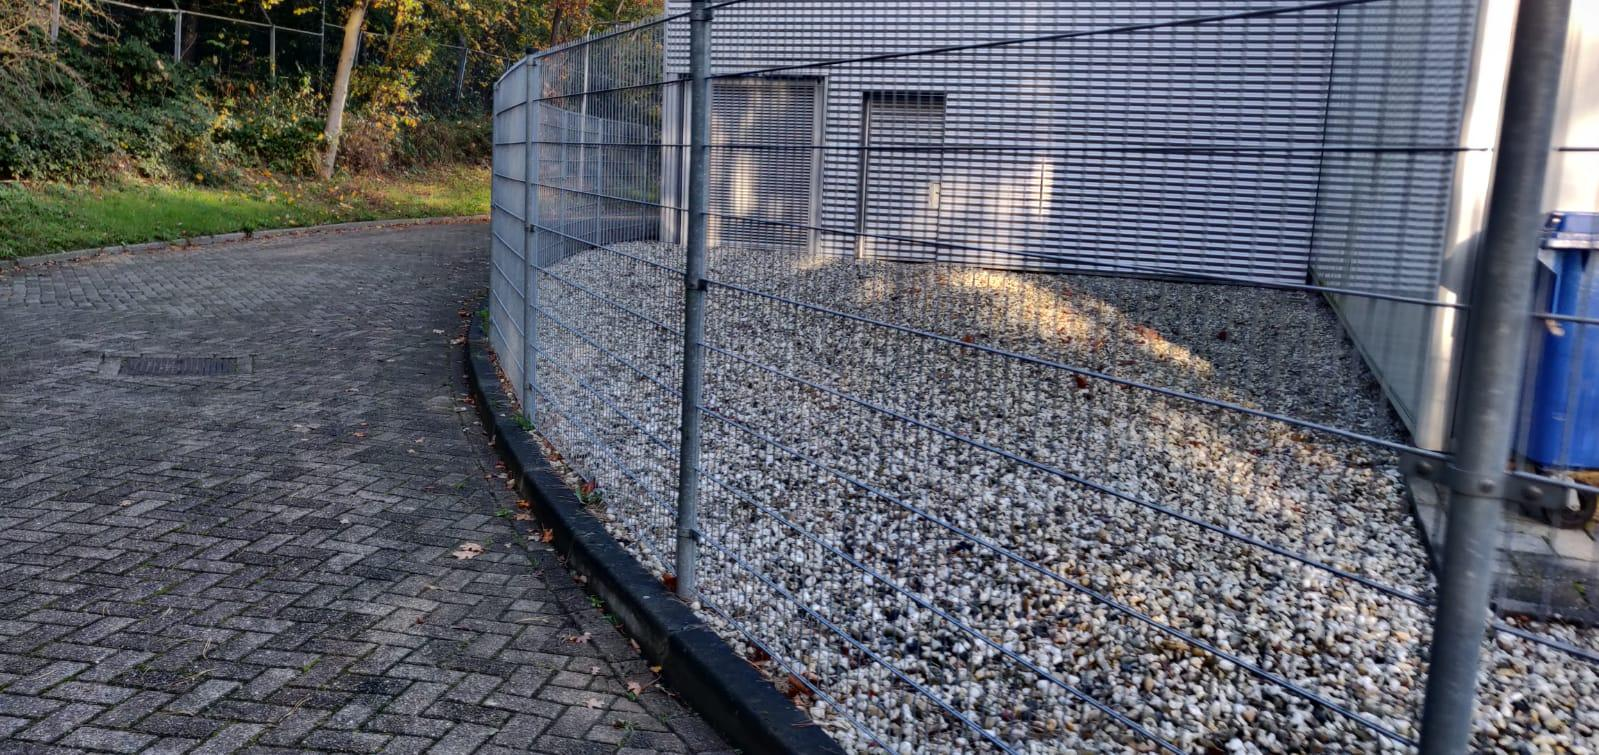obstacle: (0, 0, 1349, 753)
